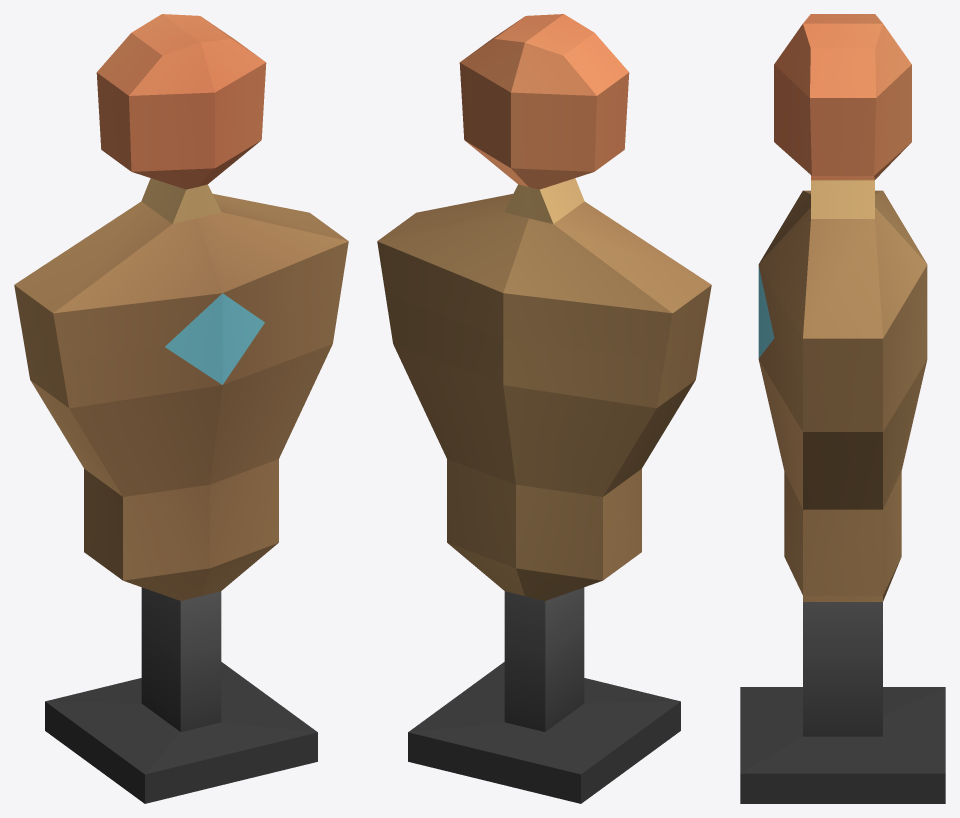
File: Dummy.fbx
3 renders of one model, left to right at view 1: azimuth 30°, elevation 25°; view 2: azimuth 150°, elevation 25°; view 3: azimuth 270°, elevation 25°, orthographic. The views are drawn at different scales.
Visible parts, largest first — view 1: Dummy; view 2: Dummy; view 3: Dummy.
Part boxes in pixels (x1,y1,x2,y2): Dummy: (14, 14, 348, 803); Dummy: (377, 14, 711, 803); Dummy: (740, 14, 945, 803).
Size of the model in its own units: 62.33 by 145 by 36.48.
